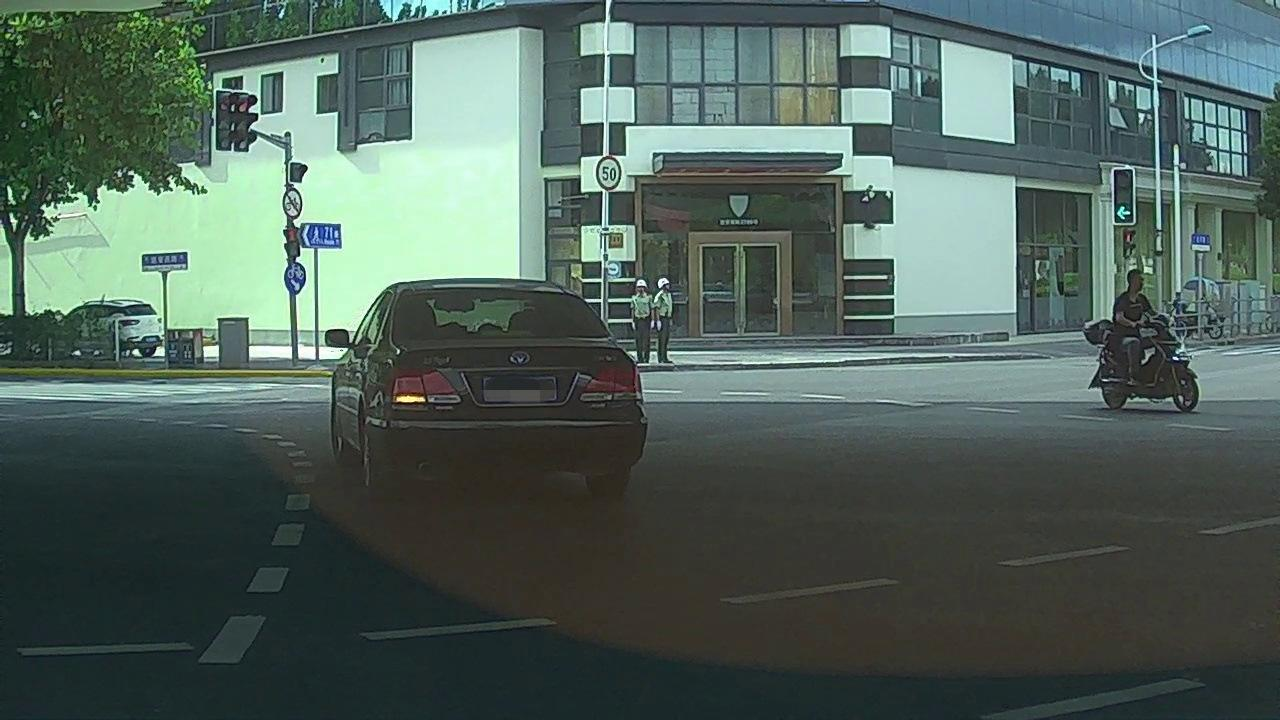traffic_light: (1115, 167, 1137, 224)
